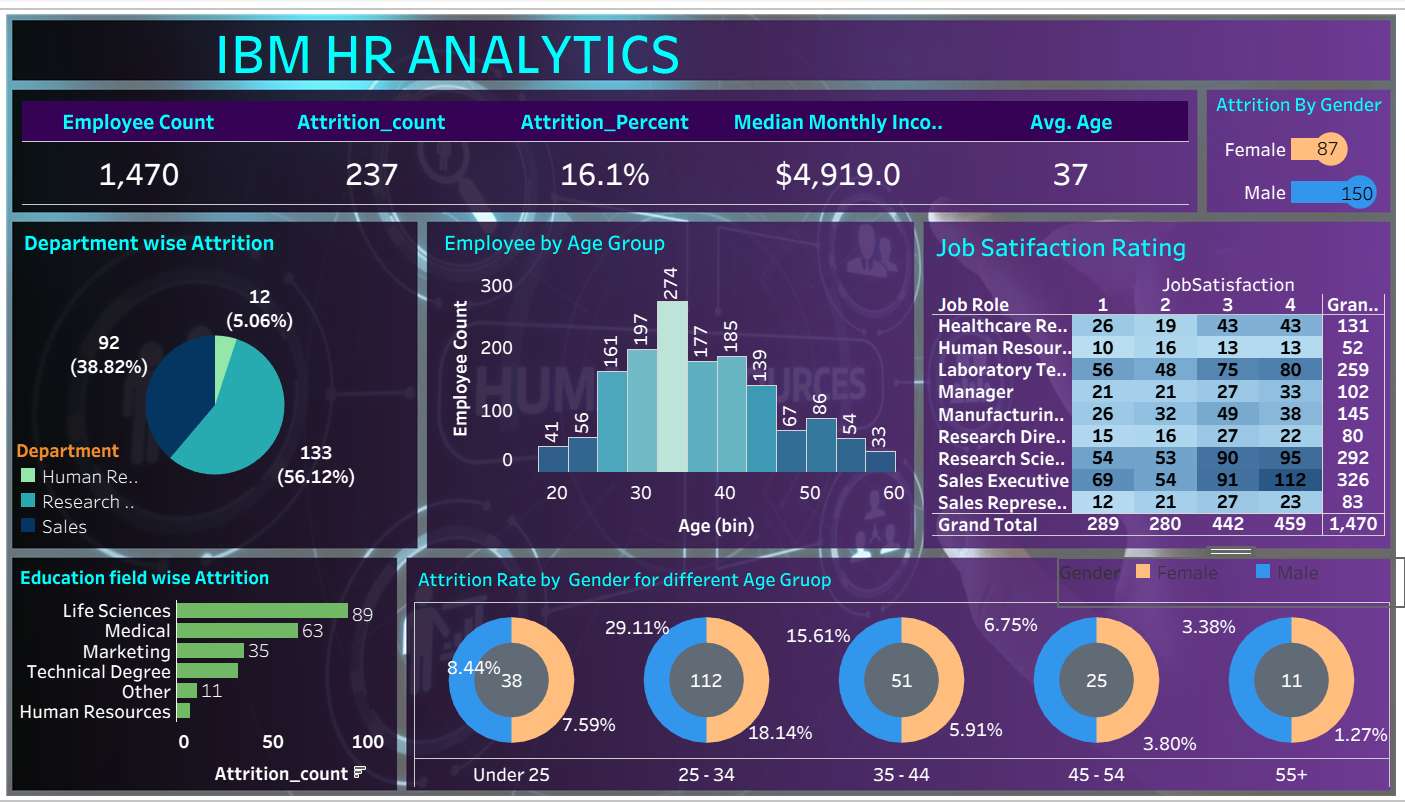

Layout of this report page (visuals, bound fields, positions):
{"tool":"tableau","page":{"name":"Dashboard 2","canvas":[1000,1000],"units":"permille","ordinal":1},"visuals":[{"type":"image","param":"C:/Users/Vikash Rao/OneDrive/Pictures/HR background.pptx_page-0002.jpg","box":[5,9.9,990,980.1]},{"type":"text","box":[100.4,28.5,483.2,67]},{"type":"worksheet","title":"Attrition By Gender","mark":"Automatic","rows":["Gender"],"cols":["Calculation_0581669067464706","Calculation_0581669067464706"],"box":[818,105.5,109.7,156.3]},{"type":"worksheet","title":"KPI","mark":"Automatic","box":[76.7,122.8,727.6,129]},{"type":"worksheet","title":"Department wiese attrition","mark":"Pie","box":[75.4,275.4,243.1,397]},{"type":"worksheet","title":"Employee by Age Group","mark":"Bar","rows":["EmployeeCount"],"cols":["Age (bin)"],"box":[337.3,275.4,294.9,388.3]},{"type":"worksheet","title":"Job Satifaction Rating","mark":"Square","rows":["JobRole"],"cols":["JobSatisfaction"],"box":[644,277.9,282.4,384.6]},{"type":"legend","title":"Department wiese attrition","param":"[federated.0nbelst1plffz719opjm10ne6kau].[none:Department:nk]","box":[72.9,539.7,79.8,126.5]},{"type":"legend","title":"Attrition By Gender","param":"[federated.0nbelst1plffz719opjm10ne6kau].[none:Gender:nk]","box":[723.2,691.1,215.1,58.3]},{"type":"worksheet","title":"Education field wise Attrition","mark":"Automatic","rows":["EducationField"],"cols":["Calculation_0581669067464706"],"box":[72.9,692.3,231.3,287.8]},{"type":"worksheet","title":"Attrition Rate by  Gender for different Age Gruop","mark":"Pie","rows":["Calculation_0709763249717249","Calculation_0709763249717249"],"cols":["Calculation_0709763251257346"],"box":[321.1,694.8,608.5,280.4]}]}

Visuals, with their boxes on the dashboard's canvas, which has no fixed pixel size, in thousandths of its width and height (x1, y1, x2, y2). These are canvas units, not pixel positions in the 1405x802 screenshot, which may show the page scaled, cropped or inside an application window:
image: [5, 10, 995, 990]
text: [100, 28, 584, 96]
"Attrition By Gender" worksheet: [818, 106, 928, 262]
"KPI" worksheet: [77, 123, 804, 252]
"Department wiese attrition" worksheet (Pie marks): [75, 275, 318, 672]
"Employee by Age Group" worksheet (Bar marks): [337, 275, 632, 664]
"Job Satifaction Rating" worksheet (Square marks): [644, 278, 926, 662]
"Department wiese attrition" legend: [73, 540, 153, 666]
"Attrition By Gender" legend: [723, 691, 938, 749]
"Education field wise Attrition" worksheet: [73, 692, 304, 980]
"Attrition Rate by  Gender for different Age Gruop" worksheet (Pie marks): [321, 695, 930, 975]
